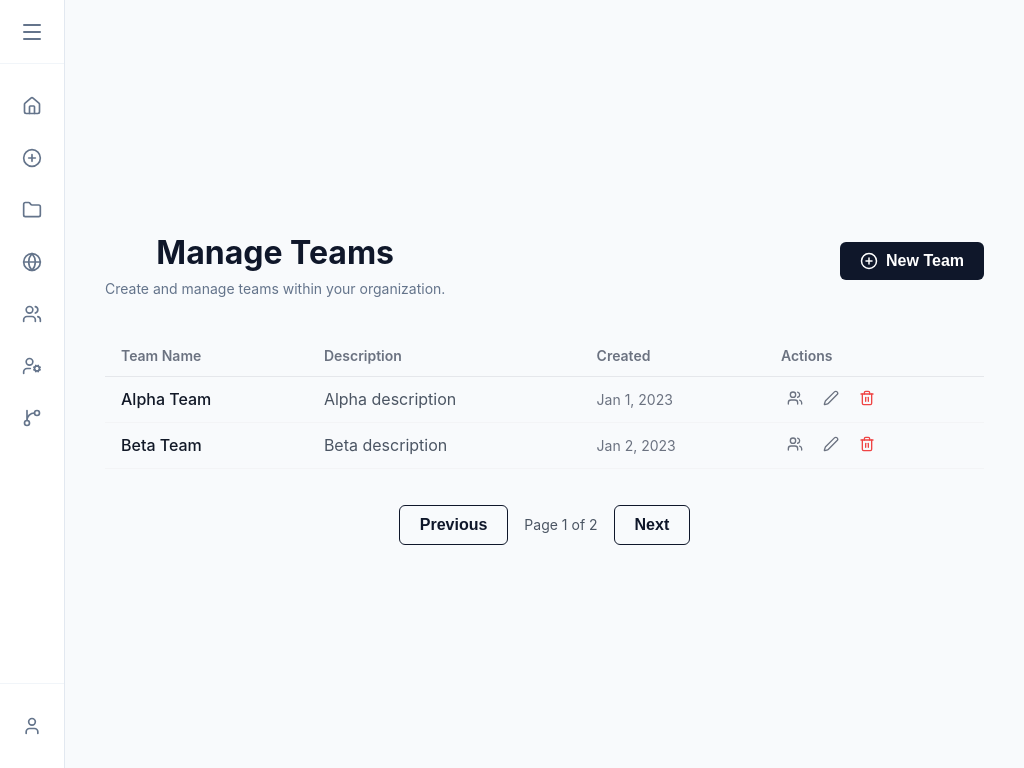
ManageTeamsPage › opens members modal and shows members
This screenshot has width=1024, height=768.
Expected: the text "Alpha Team" is shown, [105,376,308,422]
# Find the users button (first one)
Click the button titled "Manage Members" in the row of "Alpha Team": (795, 399) [781,389,809,410]
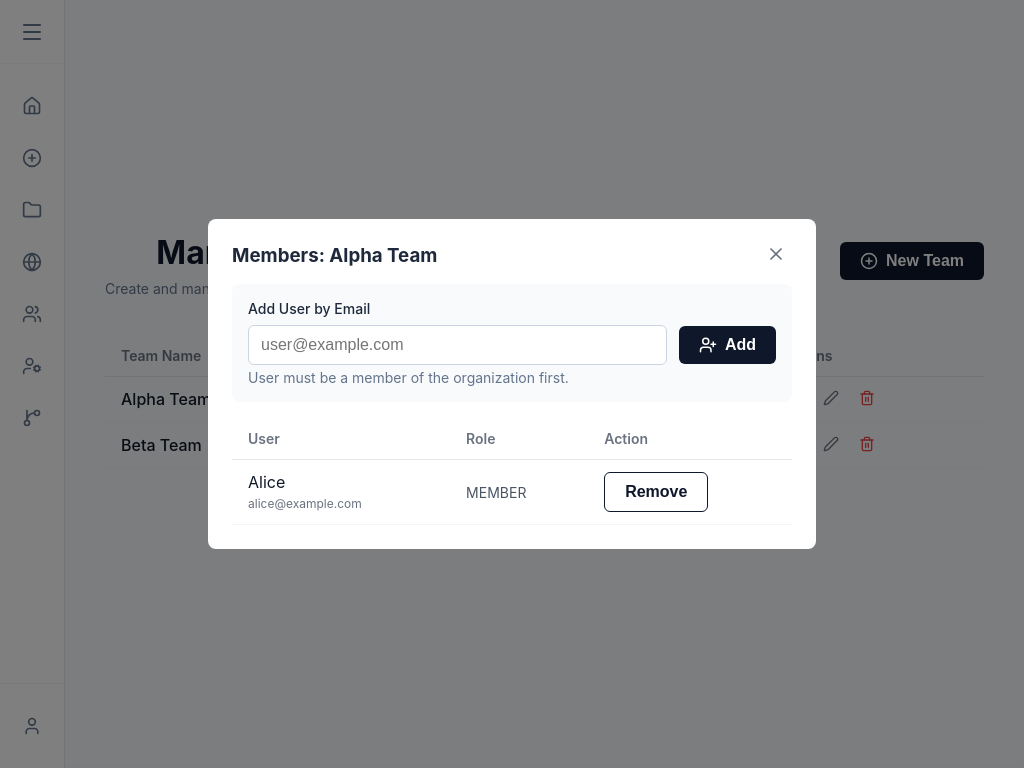
Result: the heading "Members: Alpha Team" is shown at [232,244,437,267]
Result: the text "Alice" is shown at [248,472,285,492]
Result: the text "alice@example.com" is shown at [248,496,362,511]
